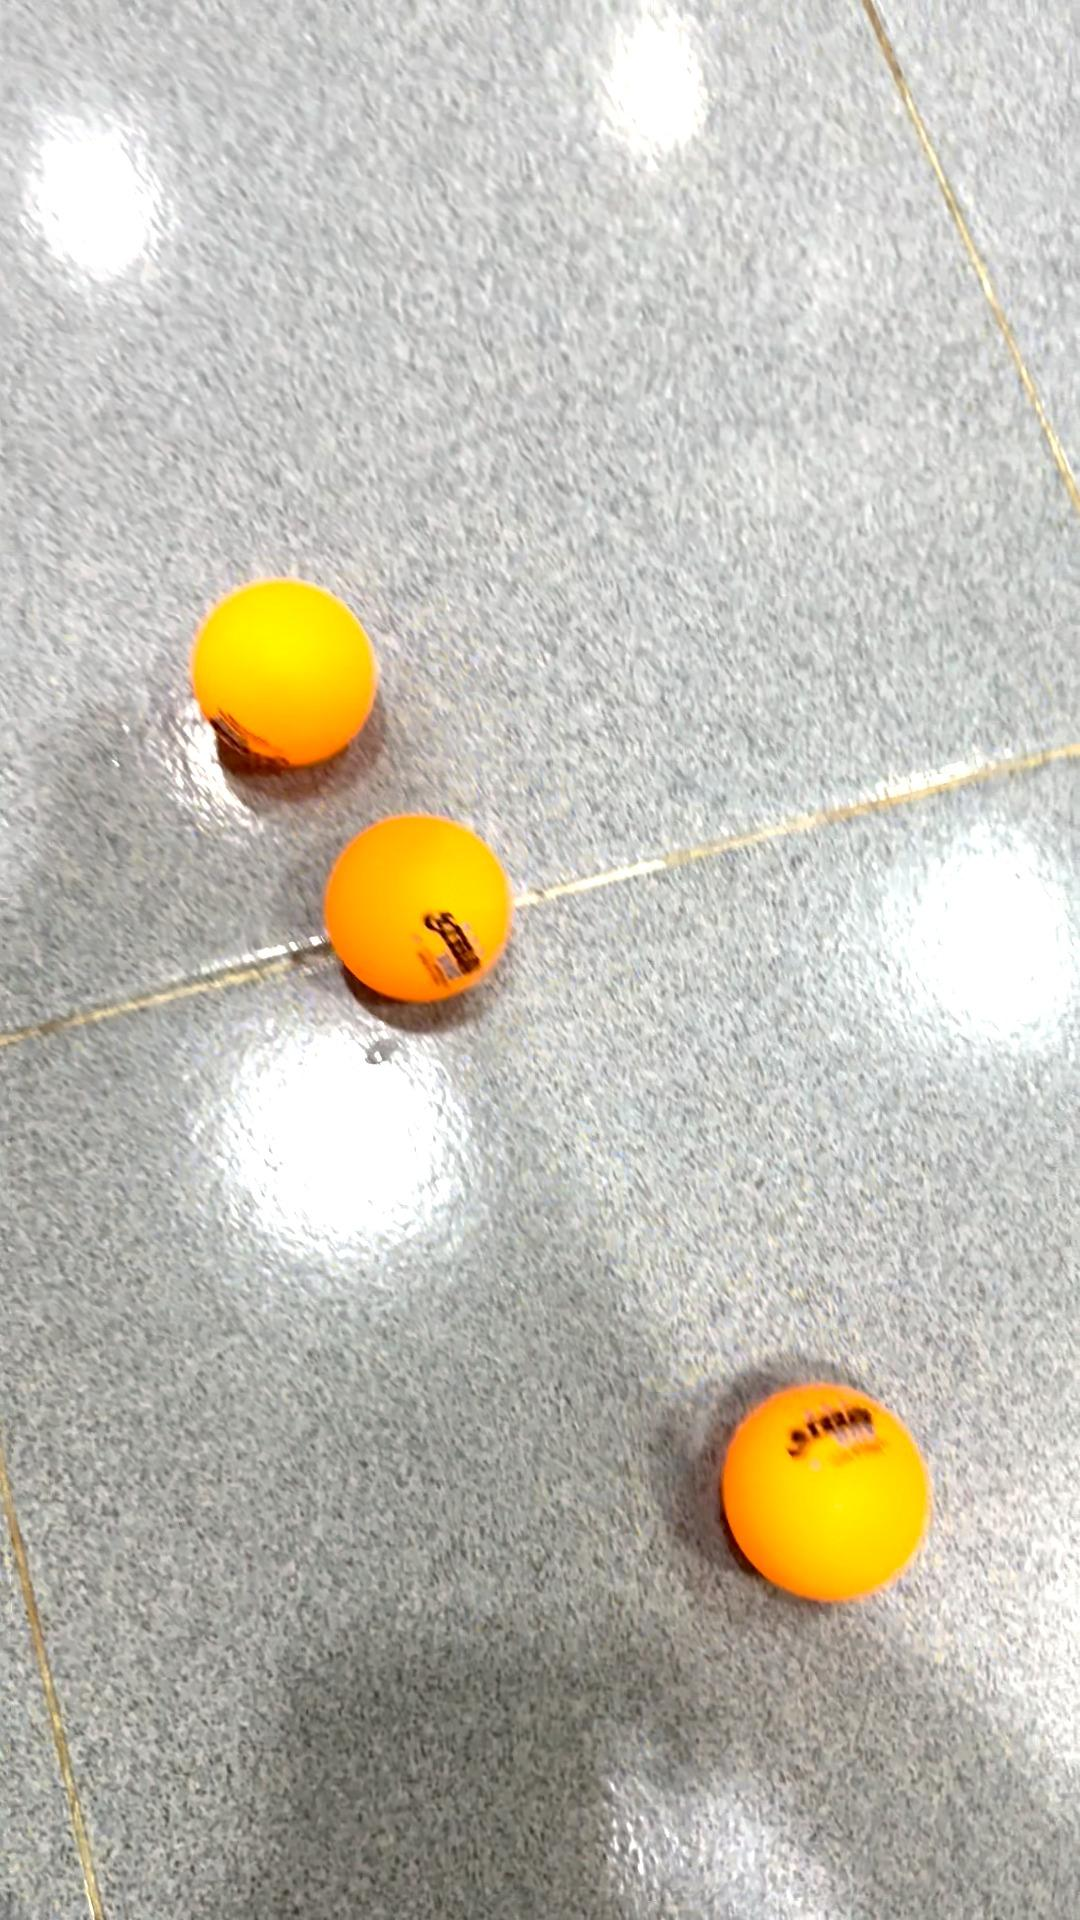oball: (715, 1371, 939, 1606), (316, 814, 516, 1013), (187, 575, 388, 769)
